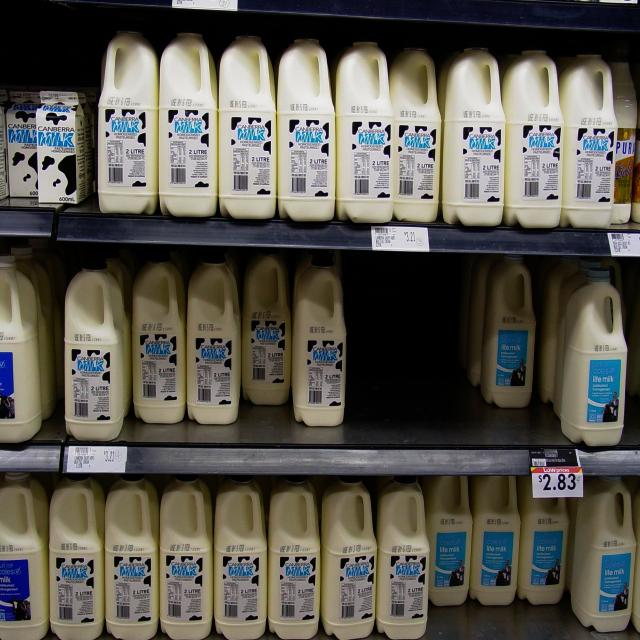empty_space: (350, 254, 458, 435), (7, 26, 97, 92)
